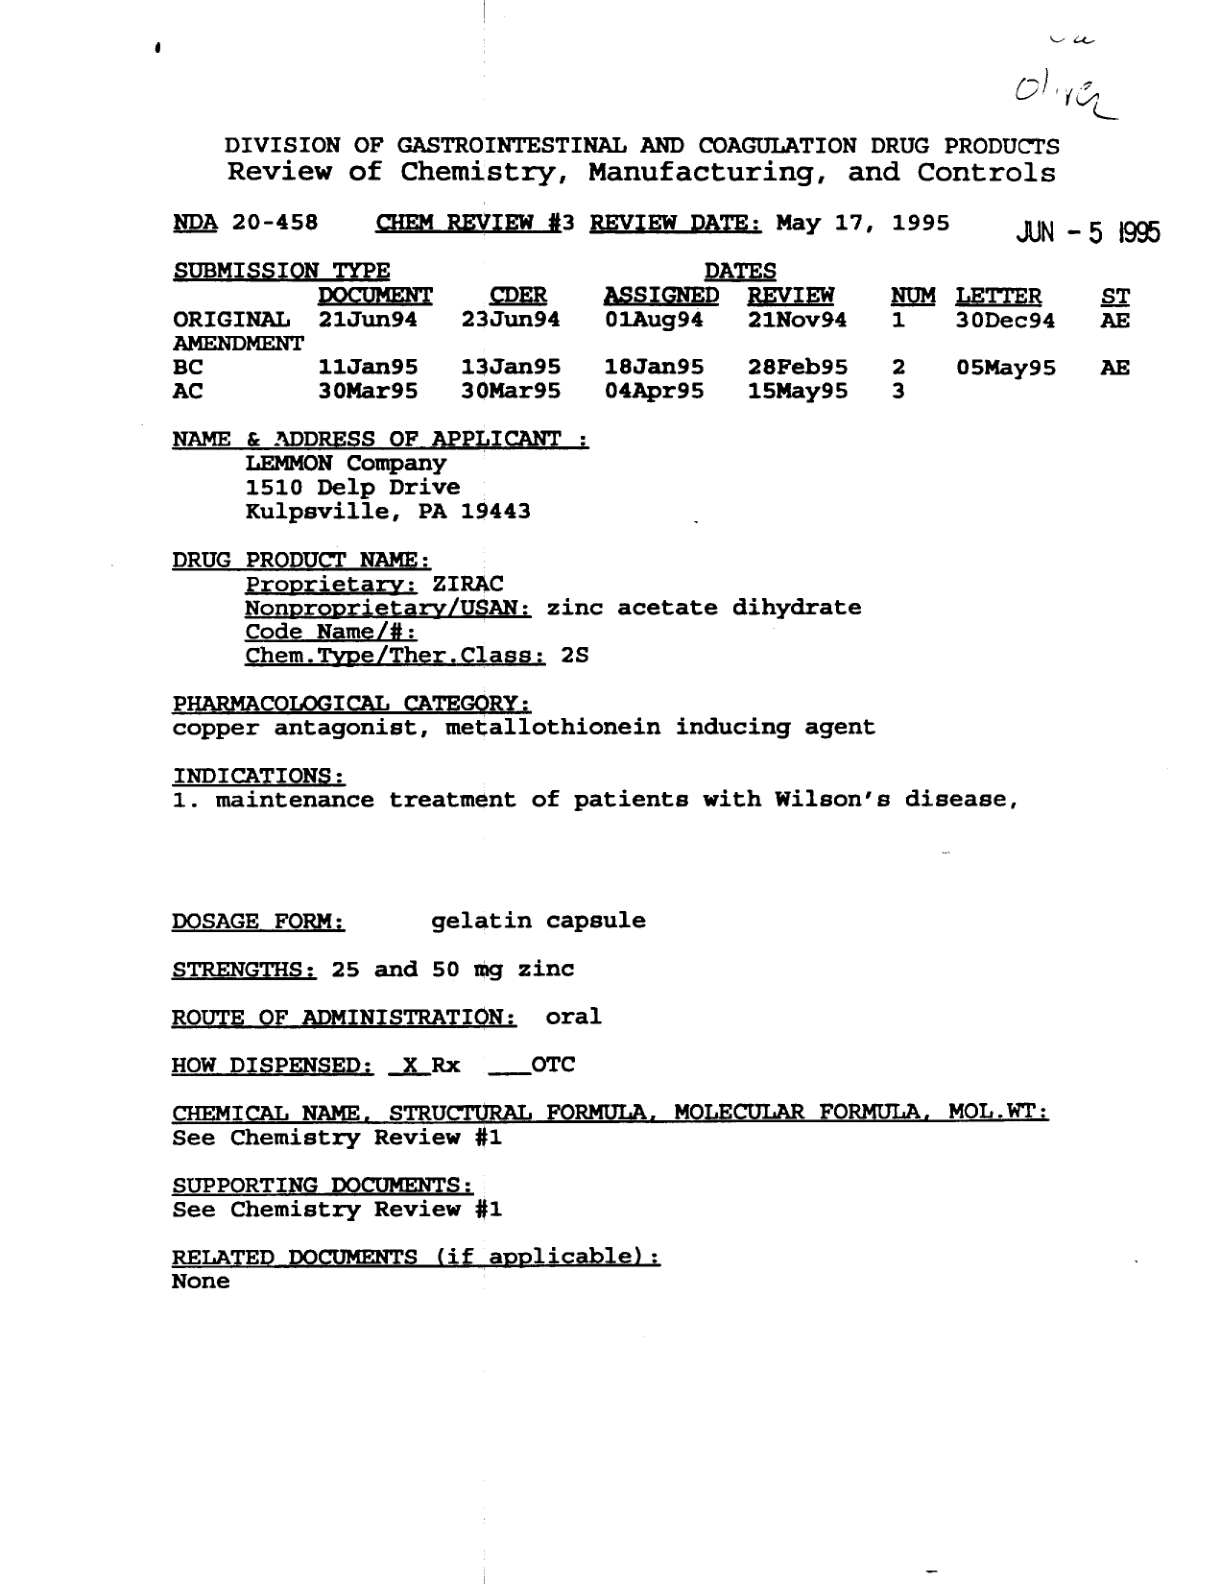nolines: (170, 259, 1135, 404)
